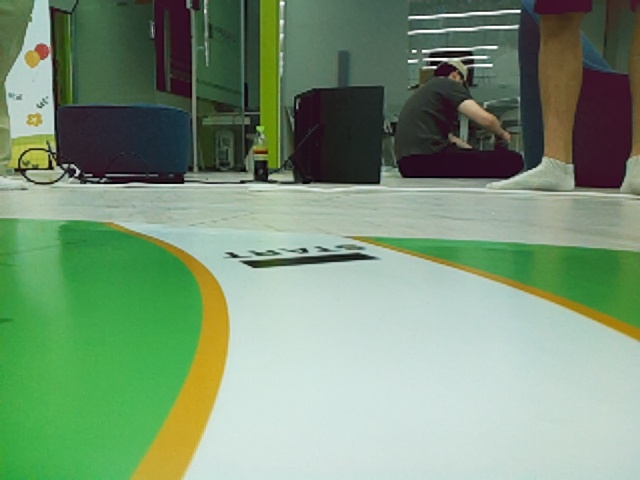apple: (36, 45, 49, 59)
